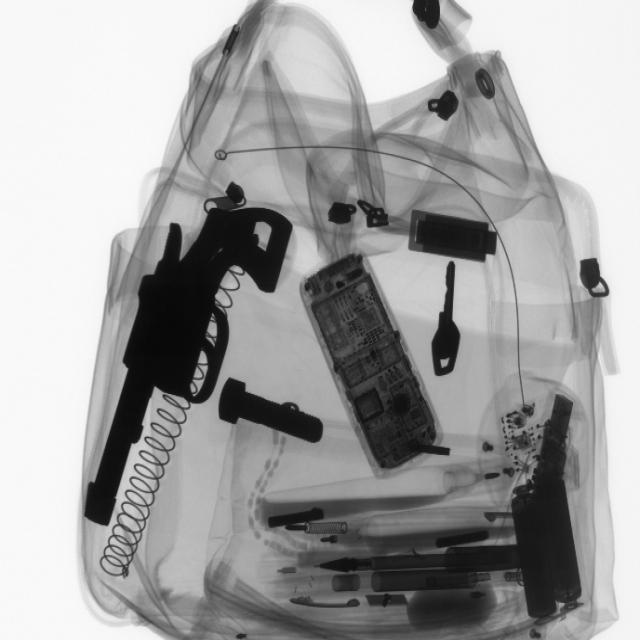GUN: (82, 197, 294, 530)
